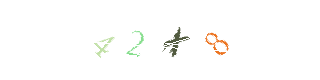2: (119, 0, 199, 80)
4: (98, 0, 178, 80)
8: (177, 0, 257, 80)
X: (135, 0, 215, 80)
